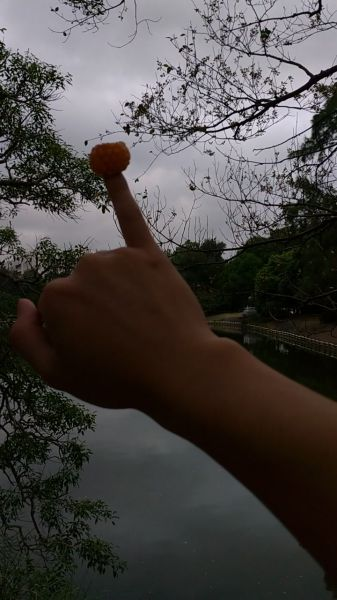eggs: (88, 142, 131, 173)
